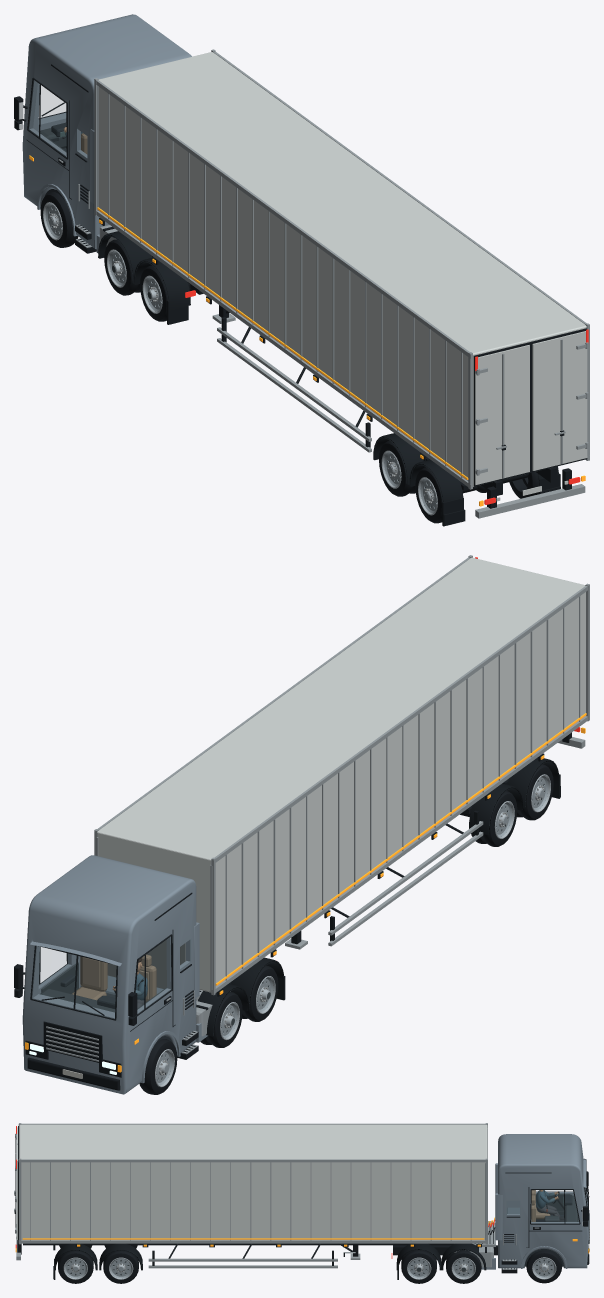
Rendered from semi.glb.
The picture shows the model from 3 angles, top to bottom: view 1: azimuth 30°, elevation 25°; view 2: azimuth 150°, elevation 25°; view 3: azimuth 270°, elevation 25°; orthographic projection. The views are drawn at different scales.
Parts seen in each view (by area): view 1: detail.006, detail.007, body, detail.008, Cab cooling louver -1 00, detail.001, commercial_tire_and_vented_steel_rim.004, detail.009, commercial_tire_and_vented_steel_rim.006, commercial_tire_and_vented_steel_rim, commercial_tire_and_vented_steel_rim.008, commercial_tire_and_vented_steel_rim.002; view 2: detail.006, body, detail.007, Cab cooling louver -1 00, detail.001, Adjustable head restraint, detail.008, commercial_tire_and_vented_steel_rim.004, detail.009, detail.002, commercial_tire_and_vented_steel_rim.006, commercial_tire_and_vented_steel_rim (+2 smaller); view 3: detail.006, body, detail.007, detail.008, Cab cooling louver -1 00, detail.001, Adjustable head restraint, detail.009, commercial_tire_and_vented_steel_rim.009, commercial_tire_and_vented_steel_rim.007, commercial_tire_and_vented_steel_rim.001, commercial_tire_and_vented_steel_rim.003 (+2 smaller).
Part boxes in pixels (<box>): detail.006: <box>98,52,587,501</box>; detail.007: <box>94,49,589,518</box>; body: <box>22,14,191,253</box>; detail.008: <box>99,218,587,526</box>; Cab cooling louver -1 00: <box>14,64,203,324</box>; detail.001: <box>29,80,86,158</box>; commercial_tire_and_vented_steel_rim.004: <box>40,192,78,247</box>; detail.009: <box>97,207,468,479</box>; commercial_tire_and_vented_steel_rim.006: <box>104,239,140,295</box>; commercial_tire_and_vented_steel_rim: <box>379,440,415,496</box>; commercial_tire_and_vented_steel_rim.008: <box>140,265,167,321</box>; commercial_tire_and_vented_steel_rim.002: <box>415,467,442,523</box>; detail.006: <box>97,557,585,992</box>; body: <box>22,855,207,1094</box>; detail.007: <box>94,555,589,995</box>; Cab cooling louver -1 00: <box>14,892,285,1090</box>; detail.001: <box>32,937,190,1018</box>; Adjustable head restraint: <box>40,940,185,1060</box>; detail.008: <box>217,732,571,996</box>; commercial_tire_and_vented_steel_rim.004: <box>139,1039,177,1094</box>; detail.009: <box>215,713,586,994</box>; detail.002: <box>46,990,230,1061</box>; commercial_tire_and_vented_steel_rim.006: <box>200,992,242,1047</box>; commercial_tire_and_vented_steel_rim: <box>471,791,517,846</box>; detail.006: <box>15,1124,487,1244</box>; body: <box>481,1134,588,1269</box>; detail.007: <box>14,1123,487,1268</box>; detail.008: <box>14,1126,481,1279</box>; Cab cooling louver -1 00: <box>393,1171,589,1279</box>; detail.001: <box>507,1190,587,1222</box>; Adjustable head restraint: <box>507,1190,578,1266</box>; detail.009: <box>22,1238,484,1246</box>; commercial_tire_and_vented_steel_rim.009: <box>401,1250,436,1283</box>; commercial_tire_and_vented_steel_rim.007: <box>446,1250,481,1283</box>; commercial_tire_and_vented_steel_rim.001: <box>103,1251,138,1283</box>; commercial_tire_and_vented_steel_rim.003: <box>58,1251,93,1283</box>.
Bounding box in the file's own units: 2.49 × 3.97 × 16.39.
